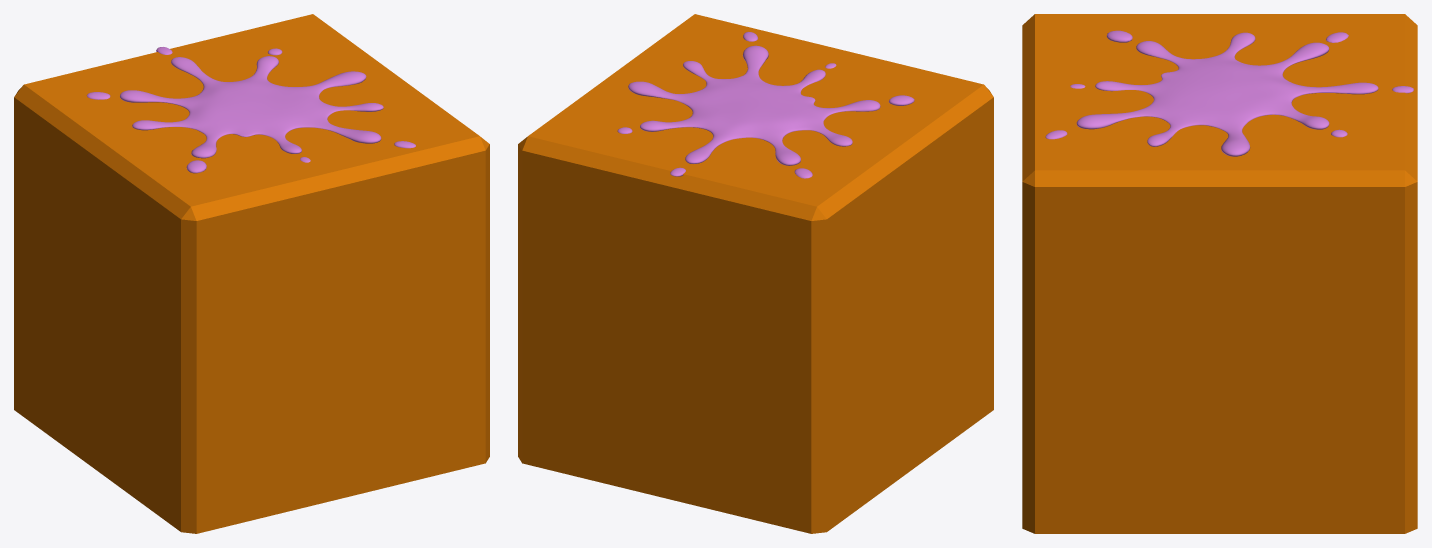
Rendered from Grass 03.FBX.
3 views of the same model, side by side, from view 1: azimuth 30°, elevation 25°; view 2: azimuth 150°, elevation 25°; view 3: azimuth 270°, elevation 25° (orthographic). The views are drawn at different scales.
Visible parts, largest first — view 1: Grass 01, abstract_stylized_splash_11_puddle_02_mesh; view 2: Grass 01, abstract_stylized_splash_11_puddle_02_mesh; view 3: Grass 01, abstract_stylized_splash_11_puddle_02_mesh.
Part boxes in pixels (x1,y1,x2,y2): Grass 01: [14, 14, 489, 533]; abstract_stylized_splash_11_puddle_02_mesh: [87, 47, 415, 173]; Grass 01: [518, 14, 993, 533]; abstract_stylized_splash_11_puddle_02_mesh: [617, 31, 914, 178]; Grass 01: [1022, 14, 1417, 533]; abstract_stylized_splash_11_puddle_02_mesh: [1045, 30, 1413, 156].
Bounding box in the file's own units: 39.37 × 40.08 × 39.37.
